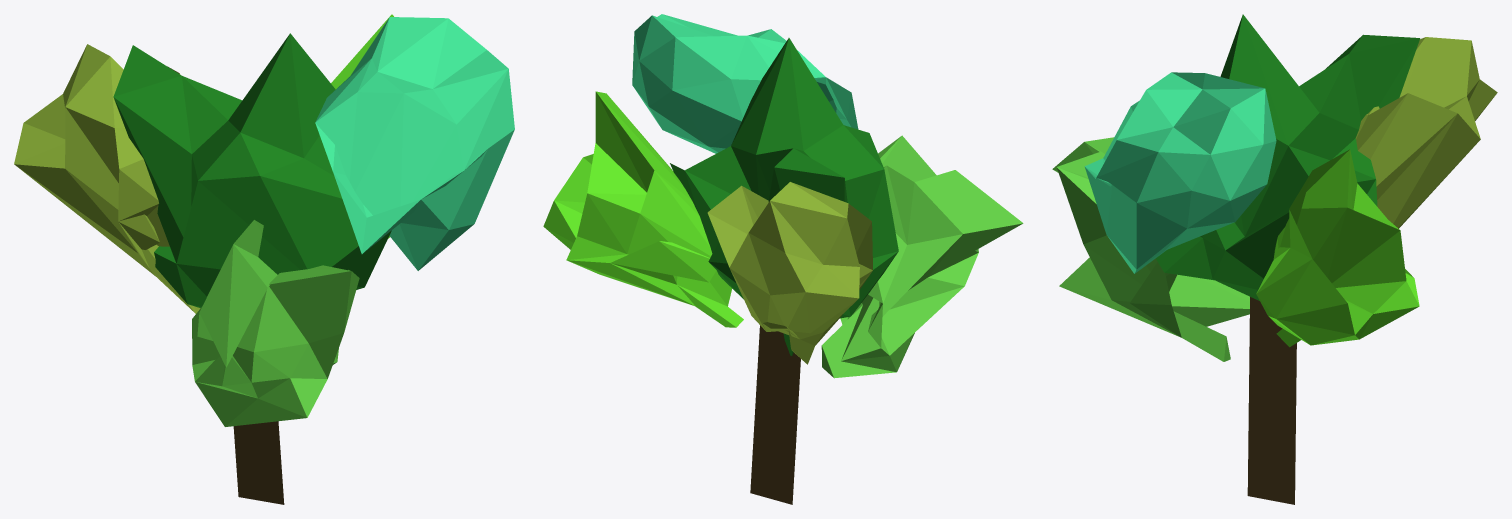
The model's file is WEIRDTREEB.fbx.
The picture shows the model from 3 angles, left to right: view 1: azimuth 30°, elevation 25°; view 2: azimuth 150°, elevation 25°; view 3: azimuth 270°, elevation 25°; orthographic projection. The views are drawn at different scales.
Visible parts, largest first — view 1: Icosphere.004; view 2: Icosphere.004; view 3: Icosphere.004.
Part boxes in pixels (x1,y1,x2,y2): Icosphere.004: (14, 14, 514, 504); Icosphere.004: (543, 14, 1023, 504); Icosphere.004: (1052, 14, 1497, 504).
Size of the model in its own units: 217 by 257 by 214.
